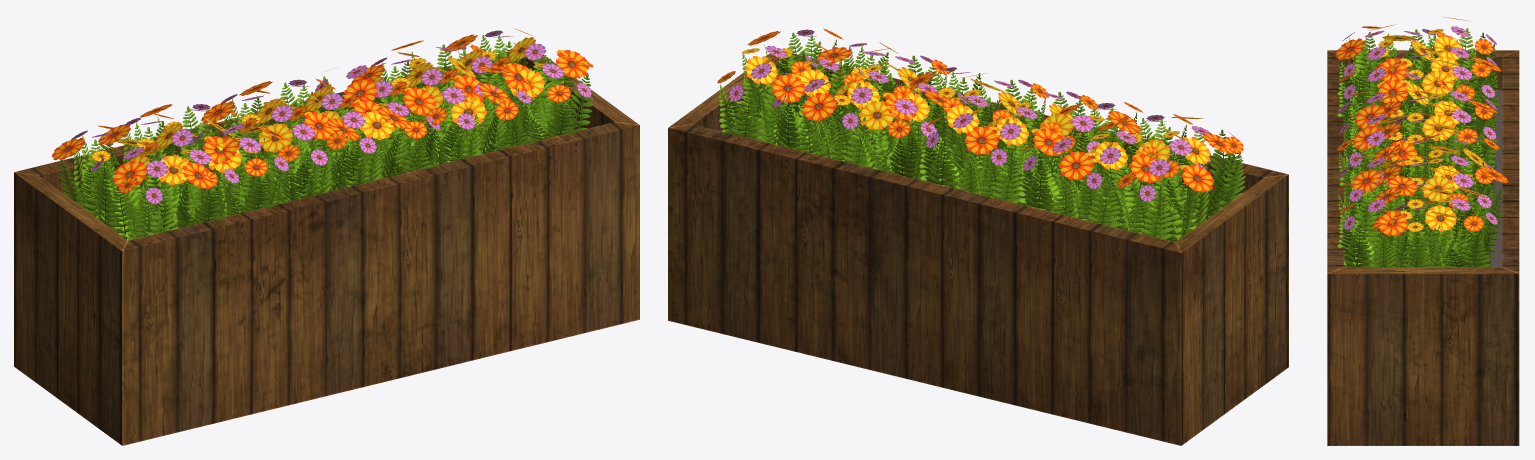
File: flower box.fbx
The picture shows the model from 3 angles, left to right: view 1: azimuth 30°, elevation 25°; view 2: azimuth 150°, elevation 25°; view 3: azimuth 270°, elevation 25°; orthographic projection. The views are drawn at different scales.
Visible parts, largest first — view 1: polySurface84; view 2: polySurface84; view 3: polySurface84.
Part boxes in pixels (x1,y1,x2,y2): polySurface84: (14, 28, 639, 445); polySurface84: (668, 28, 1288, 445); polySurface84: (1327, 16, 1519, 445).
Size of the model in its own units: 98 by 45.25 by 37.58.
